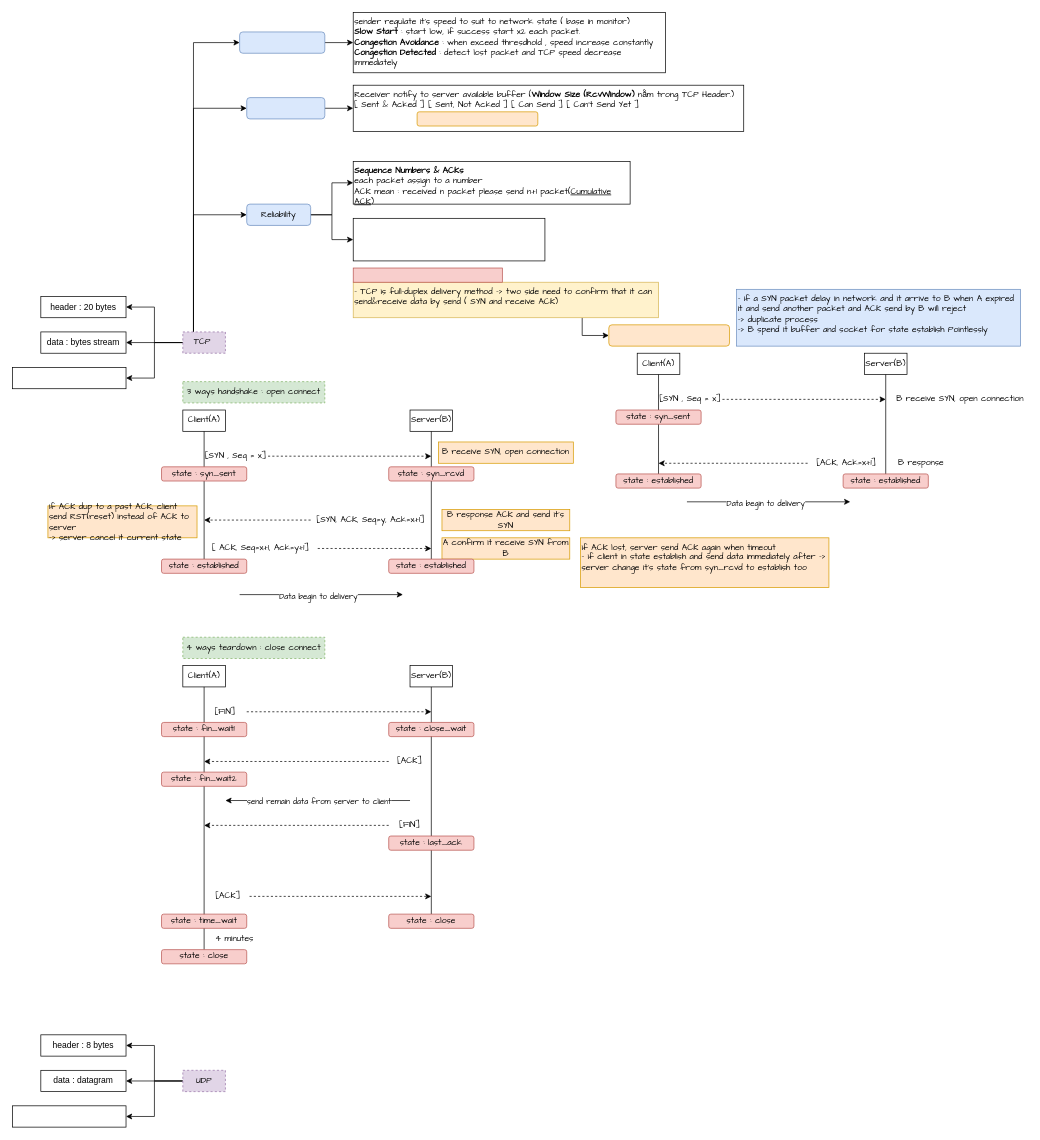
Image size: 1040x1140. Some labels were removed from this diagram. Here are the shapes that lost their labels. From the top down, the box of each, then its label:
(239, 31, 325, 53): Congestion Control
(246, 97, 325, 119): Flow Control
(416, 111, 538, 126): Window size
(353, 218, 545, 261): Retransmission - if sender RTO (Retransmission Timeout), it resend packet
(353, 267, 502, 282): why 3 steps instead of 2 steps
(608, 324, 730, 346): if establish just have 2 steps
(12, 367, 126, 389): type : connection-oriented
(12, 1105, 126, 1127): type : Connectionless
